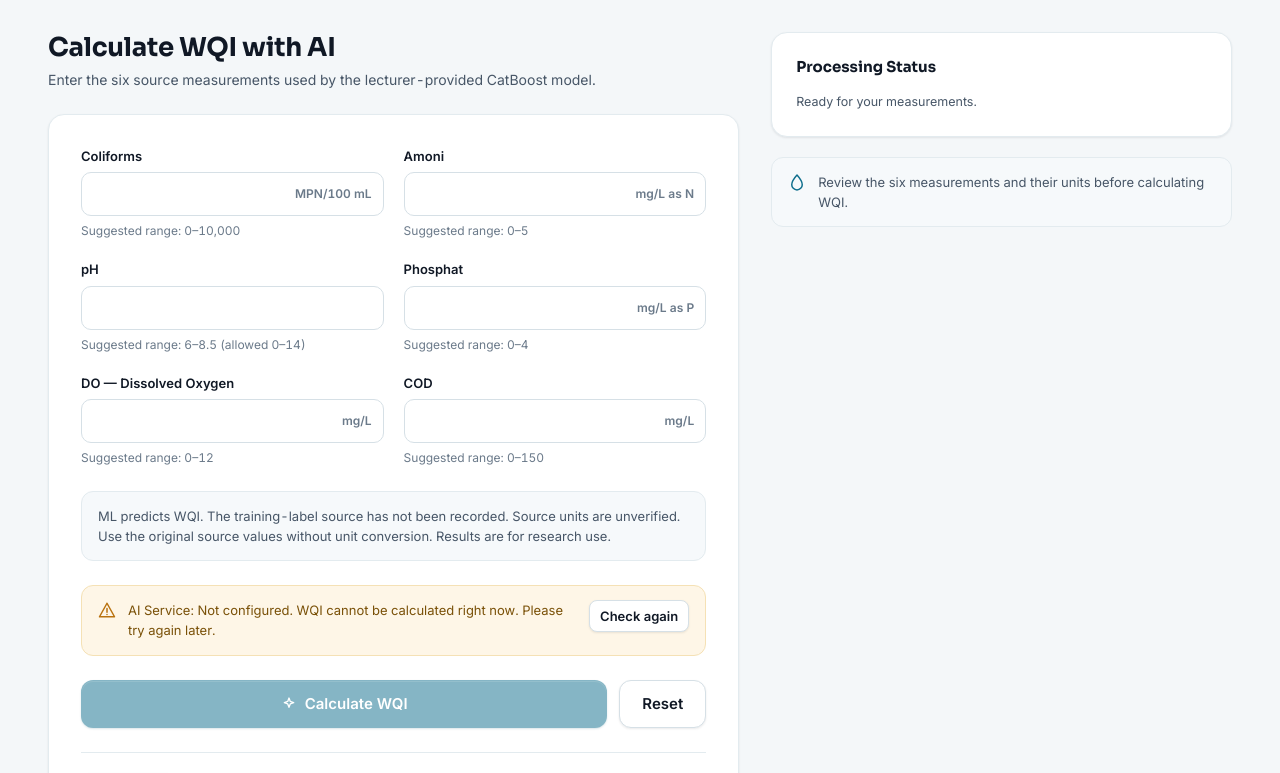
Test: prediction screens › disables calculation when the model is unavailable and explains the research basis
The width and height of the screenshot is (1280, 773).
Expected: the button "Calculate WQI" is disabled, top-left (81, 680), bottom-right (607, 728)
Expected: the message shows "AI Service: Not configured.", top-left (81, 585), bottom-right (706, 656)
Click the button "Check again": coordinates (639, 616) top-left (589, 600), bottom-right (689, 632)
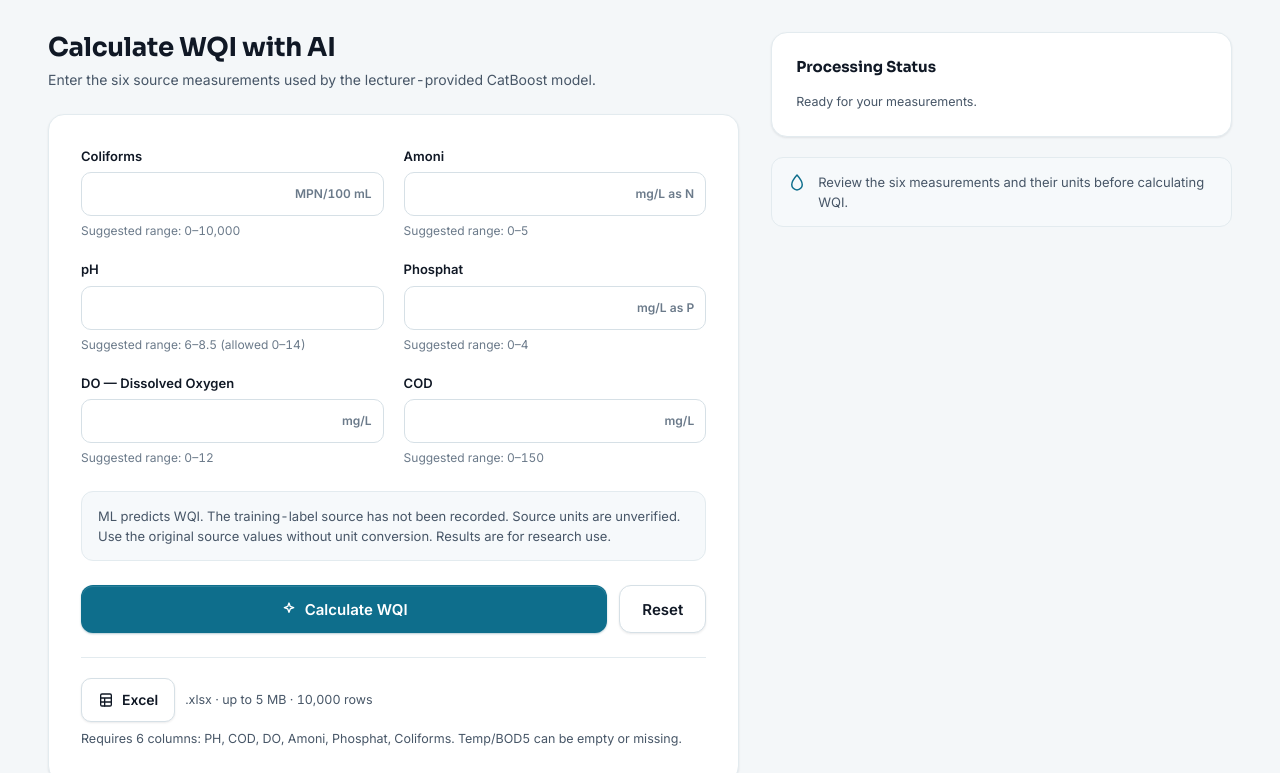
Result: the button "Calculate WQI" is enabled at top-left (81, 585), bottom-right (607, 633)
Result: the button "Check again" is gone
